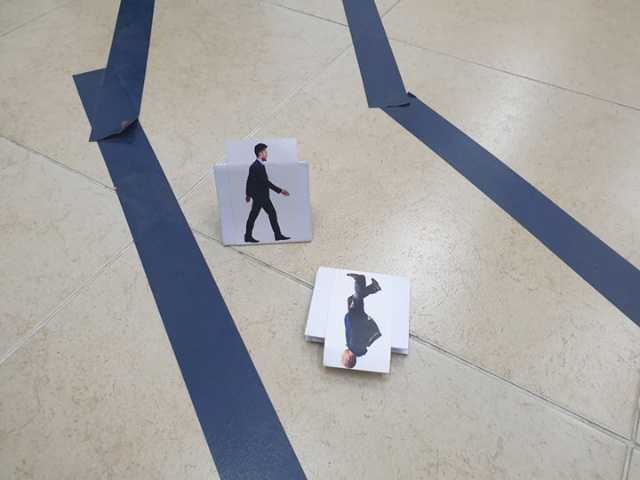Person: (231, 141, 293, 243), (337, 271, 382, 374)
